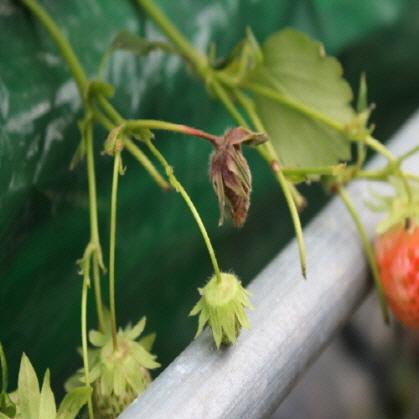Gray Mold: (193, 125, 270, 229)
